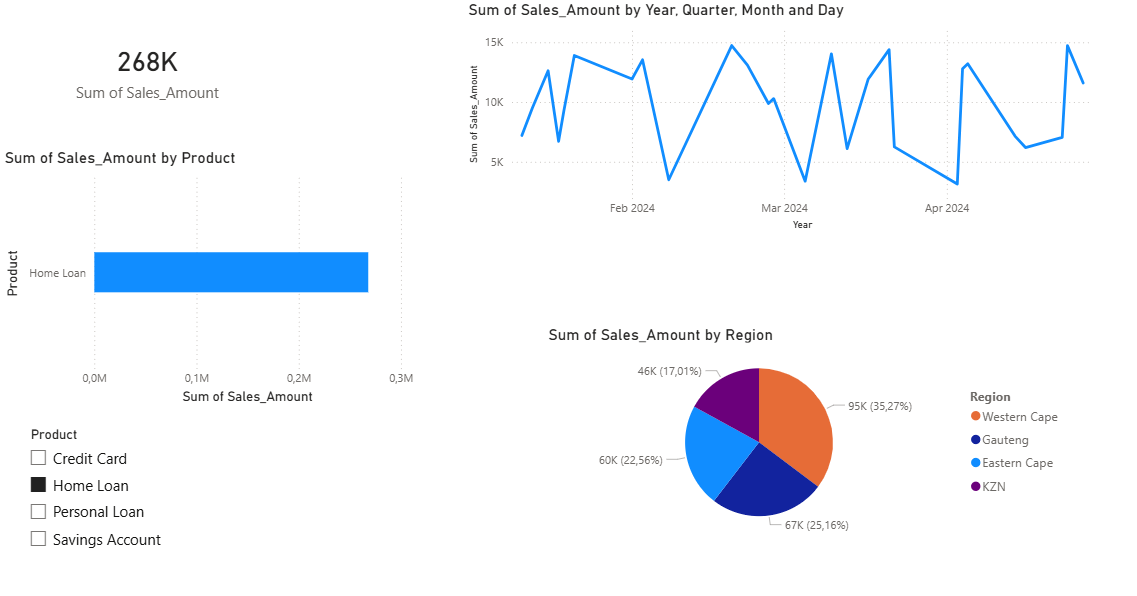

This screenshot's page, from the dashboard's own definition file:
{"tool":"powerbi","page":{"name":"Page 1","canvas":[1280,720],"ordinal":0},"visuals":[{"type":"card","fields":{"Values":["Sum(beginner_bi_bank_sales_dataset.Sales_Amount)"]},"box":[9.4,0,298.9,169.6],"z":0},{"type":"clusteredBarChart","fields":{"Category":["beginner_bi_bank_sales_dataset.Product"],"Y":["Sum(beginner_bi_bank_sales_dataset.Sales_Amount)"]},"box":[0,169.6,451,280],"z":1000},{"type":"lineChart","fields":{"Category":["beginner_bi_bank_sales_dataset.Date.Variation.Date Hierarchy.Year","beginner_bi_bank_sales_dataset.Date.Variation.Date Hierarchy.Quarter","beginner_bi_bank_sales_dataset.Date.Variation.Date Hierarchy.Month","beginner_bi_bank_sales_dataset.Date.Variation.Date Hierarchy.Day"],"Y":["Sum(beginner_bi_bank_sales_dataset.Sales_Amount)"]},"box":[499.5,9.4,697.4,253.1],"z":2000},{"type":"pieChart","fields":{"Category":["beginner_bi_bank_sales_dataset.Region"],"Y":["Sum(beginner_bi_bank_sales_dataset.Sales_Amount)"]},"box":[585.6,359.4,568.1,234.2],"z":3000},{"type":"slicer","fields":{"Values":["beginner_bi_bank_sales_dataset.Product"]},"box":[20.2,464.5,451,227.5],"z":4000}]}

Visuals, with their boxes on the page's 1280x720 design canvas (x1, y1, x2, y2). These are canvas units, not pixel positions in the 1137x596 screenshot, which may show the page scaled, cropped or inside an application window:
card - Sum(beginner_bi_bank_sales_dataset.Sales_Amount): bbox=(9, 0, 308, 170)
clusteredBarChart - beginner_bi_bank_sales_dataset.Product x Sum(beginner_bi_bank_sales_dataset.Sales_Amount): bbox=(0, 170, 451, 450)
lineChart - beginner_bi_bank_sales_dataset.Date.Variation.Date Hierarchy.Year x beginner_bi_bank_sales_dataset.Date.Variation.Date Hierarchy.Quarter: bbox=(500, 9, 1197, 262)
pieChart - beginner_bi_bank_sales_dataset.Region x Sum(beginner_bi_bank_sales_dataset.Sales_Amount): bbox=(586, 359, 1154, 594)
slicer - beginner_bi_bank_sales_dataset.Product: bbox=(20, 464, 471, 692)
